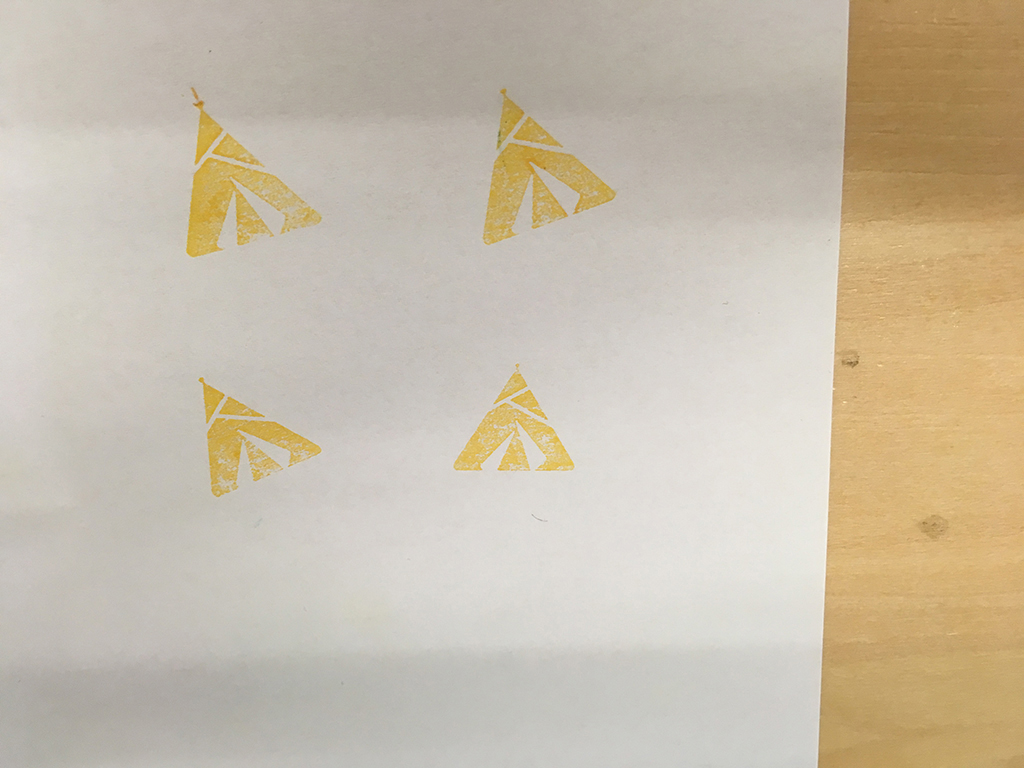tent: (169, 80, 331, 262), (474, 82, 623, 249), (186, 370, 329, 499), (447, 357, 583, 479)
